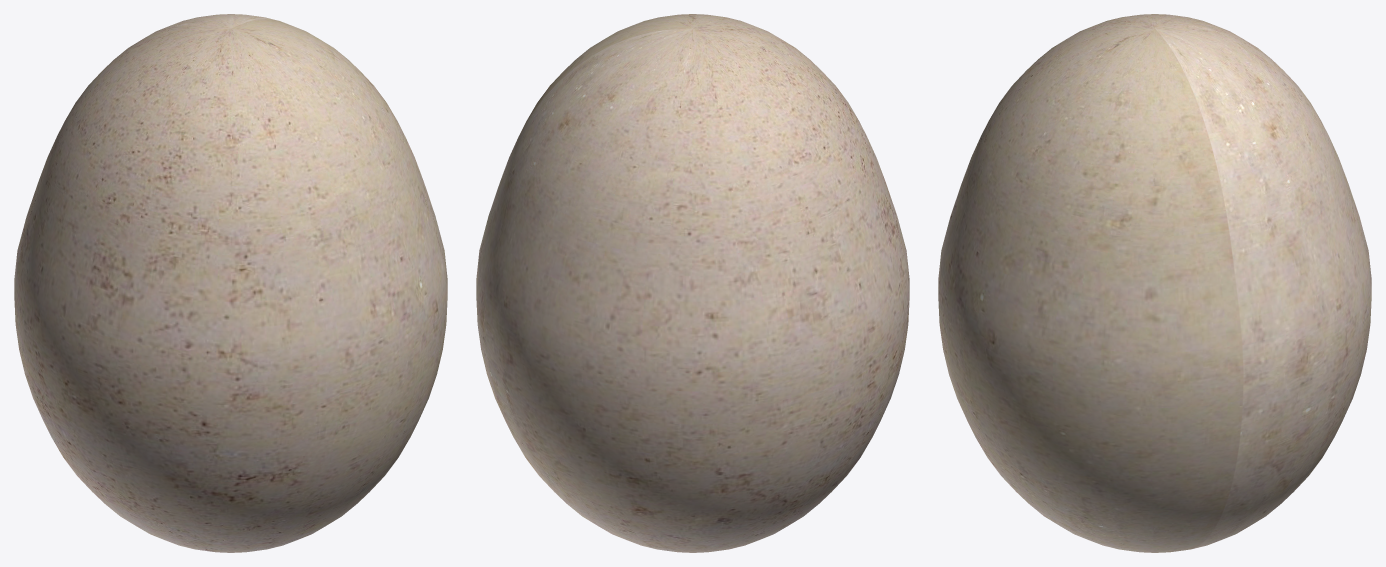
Rendered from egg.fbx.
3 renders of one model, left to right at view 1: azimuth 30°, elevation 25°; view 2: azimuth 150°, elevation 25°; view 3: azimuth 270°, elevation 25°, orthographic.
Parts seen in each view (by area): view 1: pSphere2; view 2: pSphere2; view 3: pSphere2.
Boxes of the visible parts, <box> form: pSphere2: <box>14,14,447,552</box>; pSphere2: <box>476,14,909,552</box>; pSphere2: <box>938,14,1371,552</box>.
Bounding box in the file's own units: 2.1 × 2.7 × 2.09.
1 material, 1 textured.
